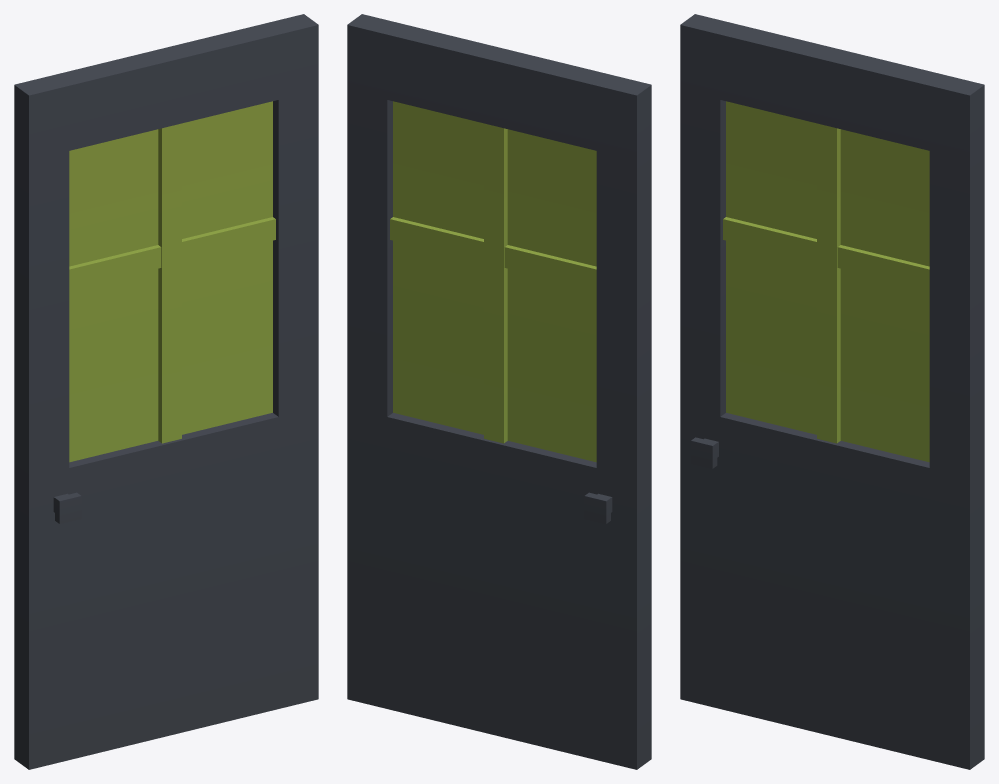
Rendered from Door_03.fbx.
The picture shows the model from 3 angles, left to right: view 1: azimuth 30°, elevation 25°; view 2: azimuth 150°, elevation 25°; view 3: azimuth 330°, elevation 25°; orthographic projection.
Parts seen in each view (by area): view 1: Door_03; view 2: Door_03; view 3: Door_03.
Boxes of the visible parts, x1,y1,x2,y2 form: Door_03: (14,14,318,769); Door_03: (347,14,651,769); Door_03: (680,14,984,769).
Bounding box in the file's own units: 0.9 × 2 × 0.1868.
